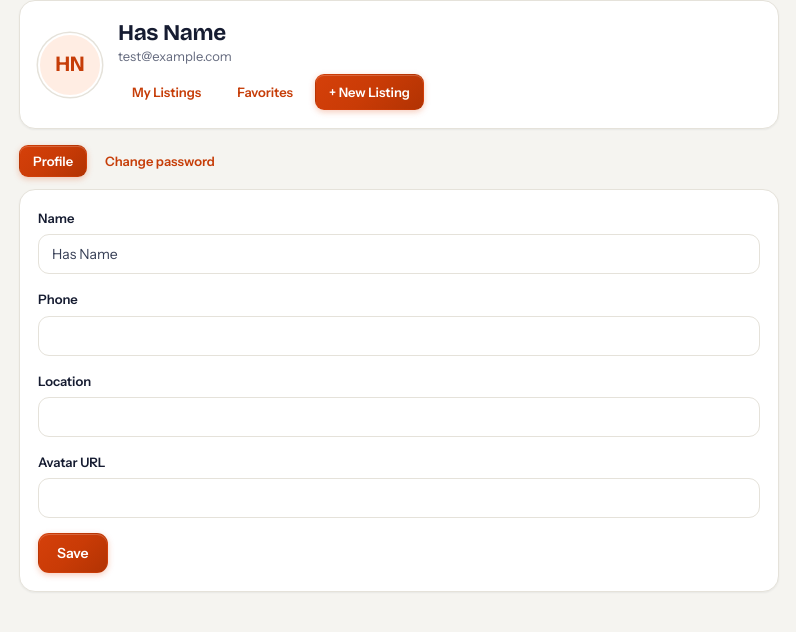
Test: Profile › shows a validation error and does not submit when the name is cleared
Step 1. Clear the 1st field → (399, 254), box [38,234,760,274]
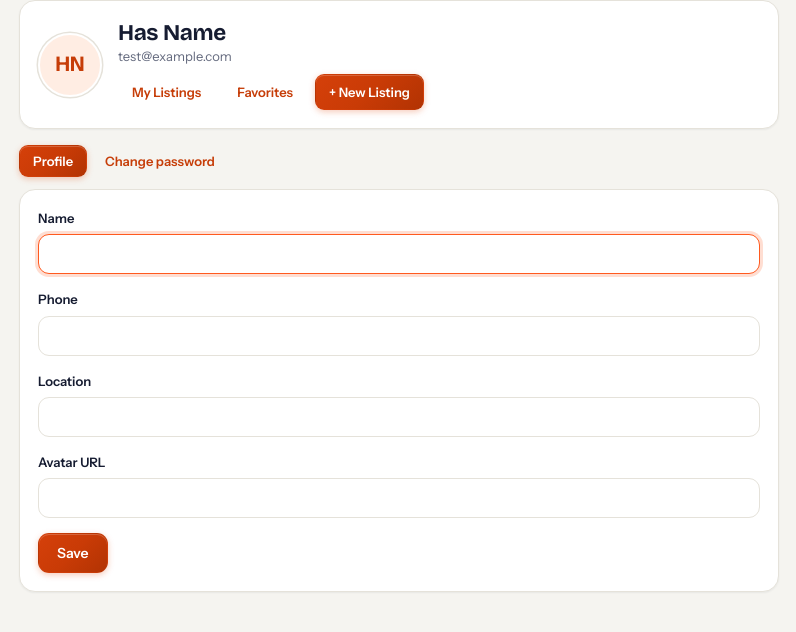
Step 2. Click the button "Save" → (73, 553), box [38,533,108,573]
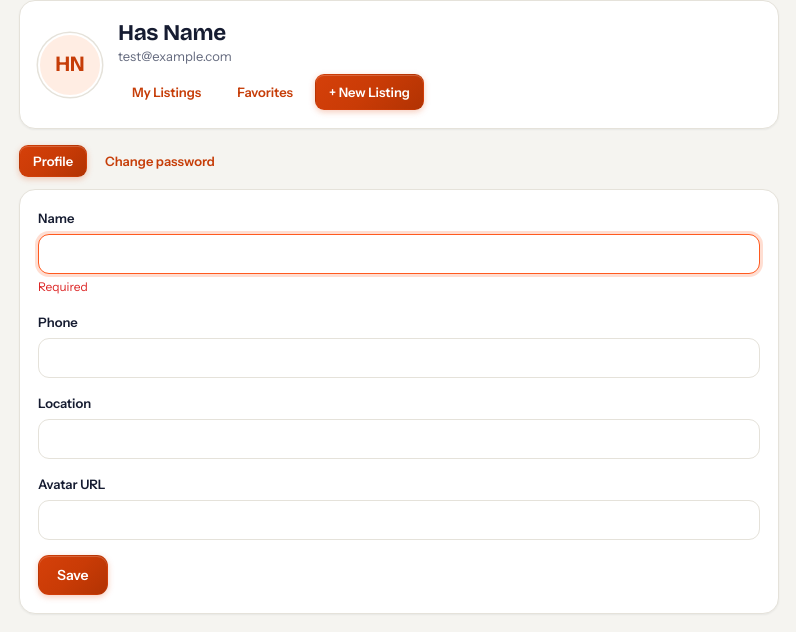
Expected: the text "Required" is shown, [38,279,88,294]
